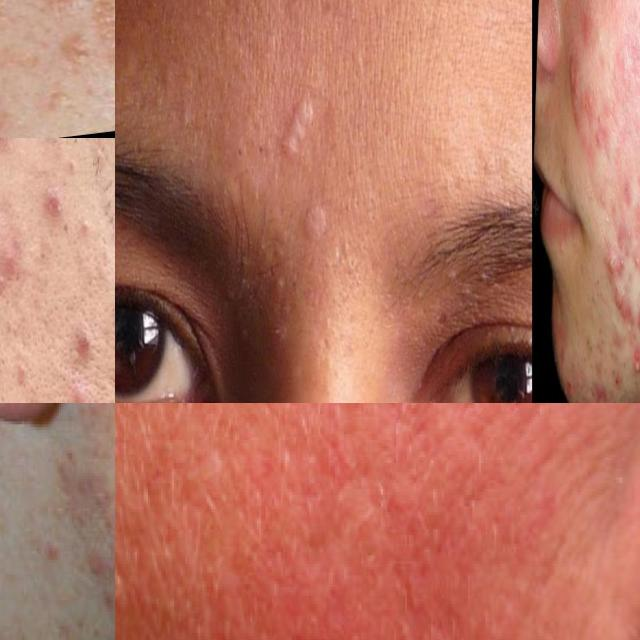comedone: (9, 326, 32, 384), (222, 126, 248, 177), (71, 193, 96, 241), (272, 260, 293, 311), (232, 325, 251, 381), (54, 344, 76, 392), (250, 133, 270, 179), (216, 279, 246, 305), (0, 260, 15, 295), (0, 323, 9, 379), (583, 331, 594, 366), (595, 324, 607, 354), (599, 278, 611, 306), (555, 234, 567, 260), (594, 26, 604, 56), (602, 215, 613, 242), (588, 289, 598, 316), (607, 346, 616, 366), (578, 380, 586, 400), (589, 381, 596, 403), (594, 271, 602, 289), (620, 328, 628, 344), (596, 304, 603, 322), (621, 355, 628, 371), (611, 365, 616, 381), (611, 395, 618, 403)
flat_wart: (28, 0, 115, 104), (275, 79, 324, 171), (22, 0, 107, 27), (295, 194, 336, 243), (456, 0, 500, 17)
papule: (38, 154, 72, 226), (70, 304, 107, 369), (590, 127, 605, 159)
pustule: (630, 347, 640, 380), (624, 222, 635, 244), (632, 251, 640, 273)
sebo-crystan-conglo: (561, 51, 584, 143), (604, 246, 628, 278), (612, 285, 630, 326), (637, 309, 640, 338)
